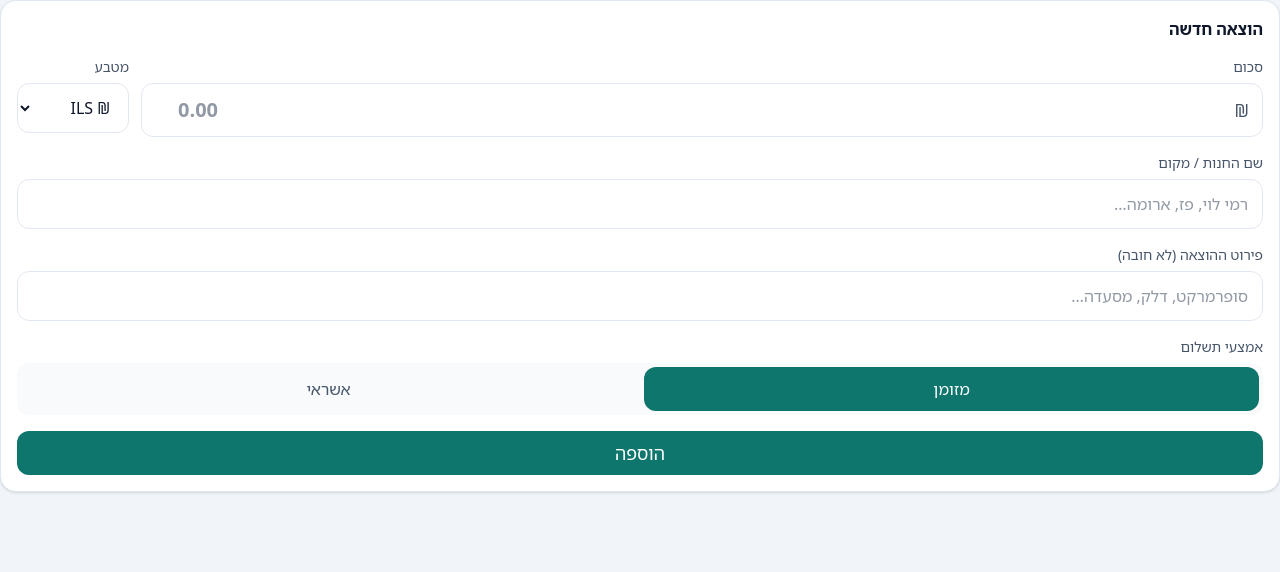
it: ExpenseForm › מציג שגיאות ולא שומר כשהסכום ושם החנות ריקים
This screenshot has width=1280, height=572.
Click the button "הוספה".
click(640, 453)  # box [17, 431, 1263, 475]
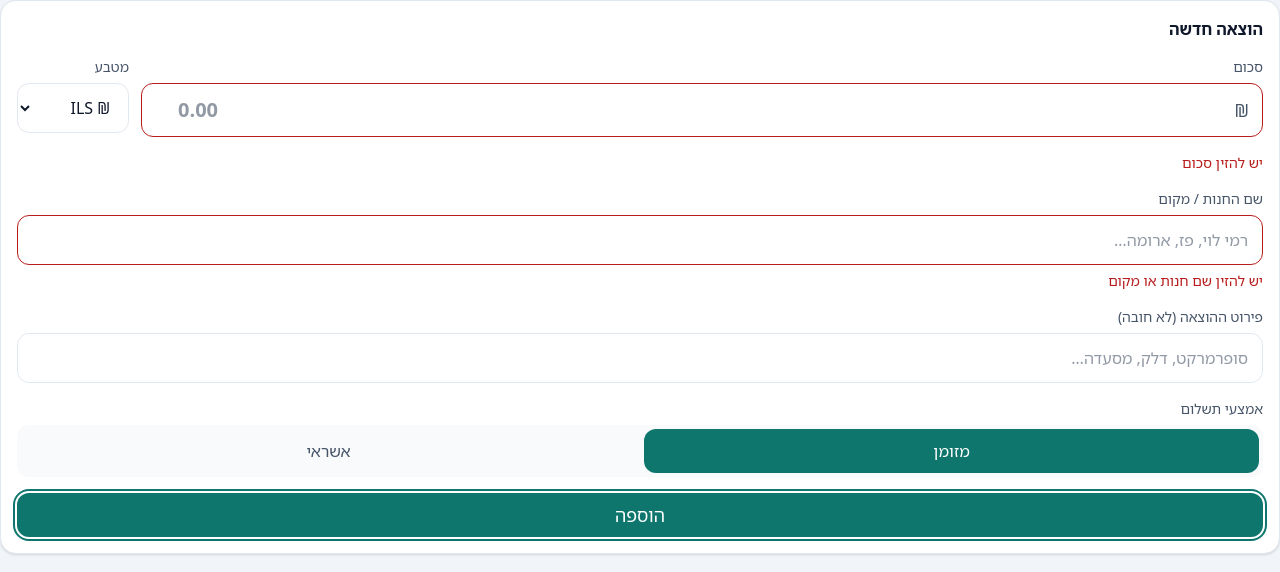
expect the text "יש להזין סכום" is shown: met, box [1182, 153, 1263, 172]
expect the text "יש להזין שם חנות או מקום" is shown: met, box [1108, 271, 1263, 290]
